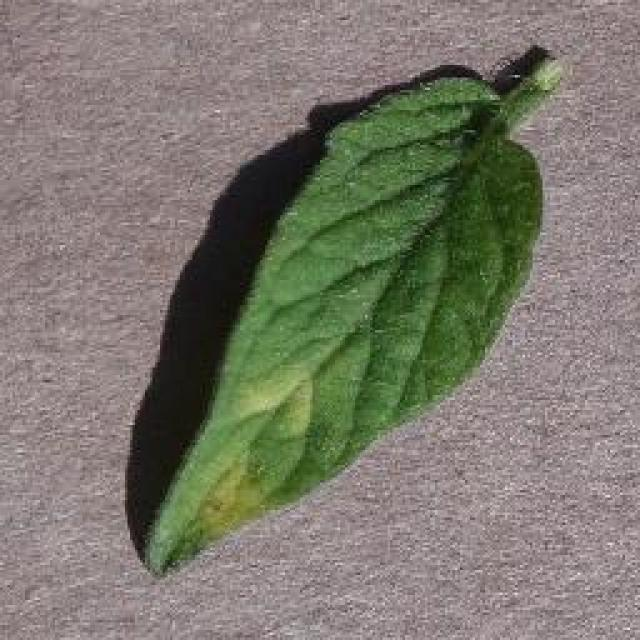leaf mold: (148, 58, 561, 583)
